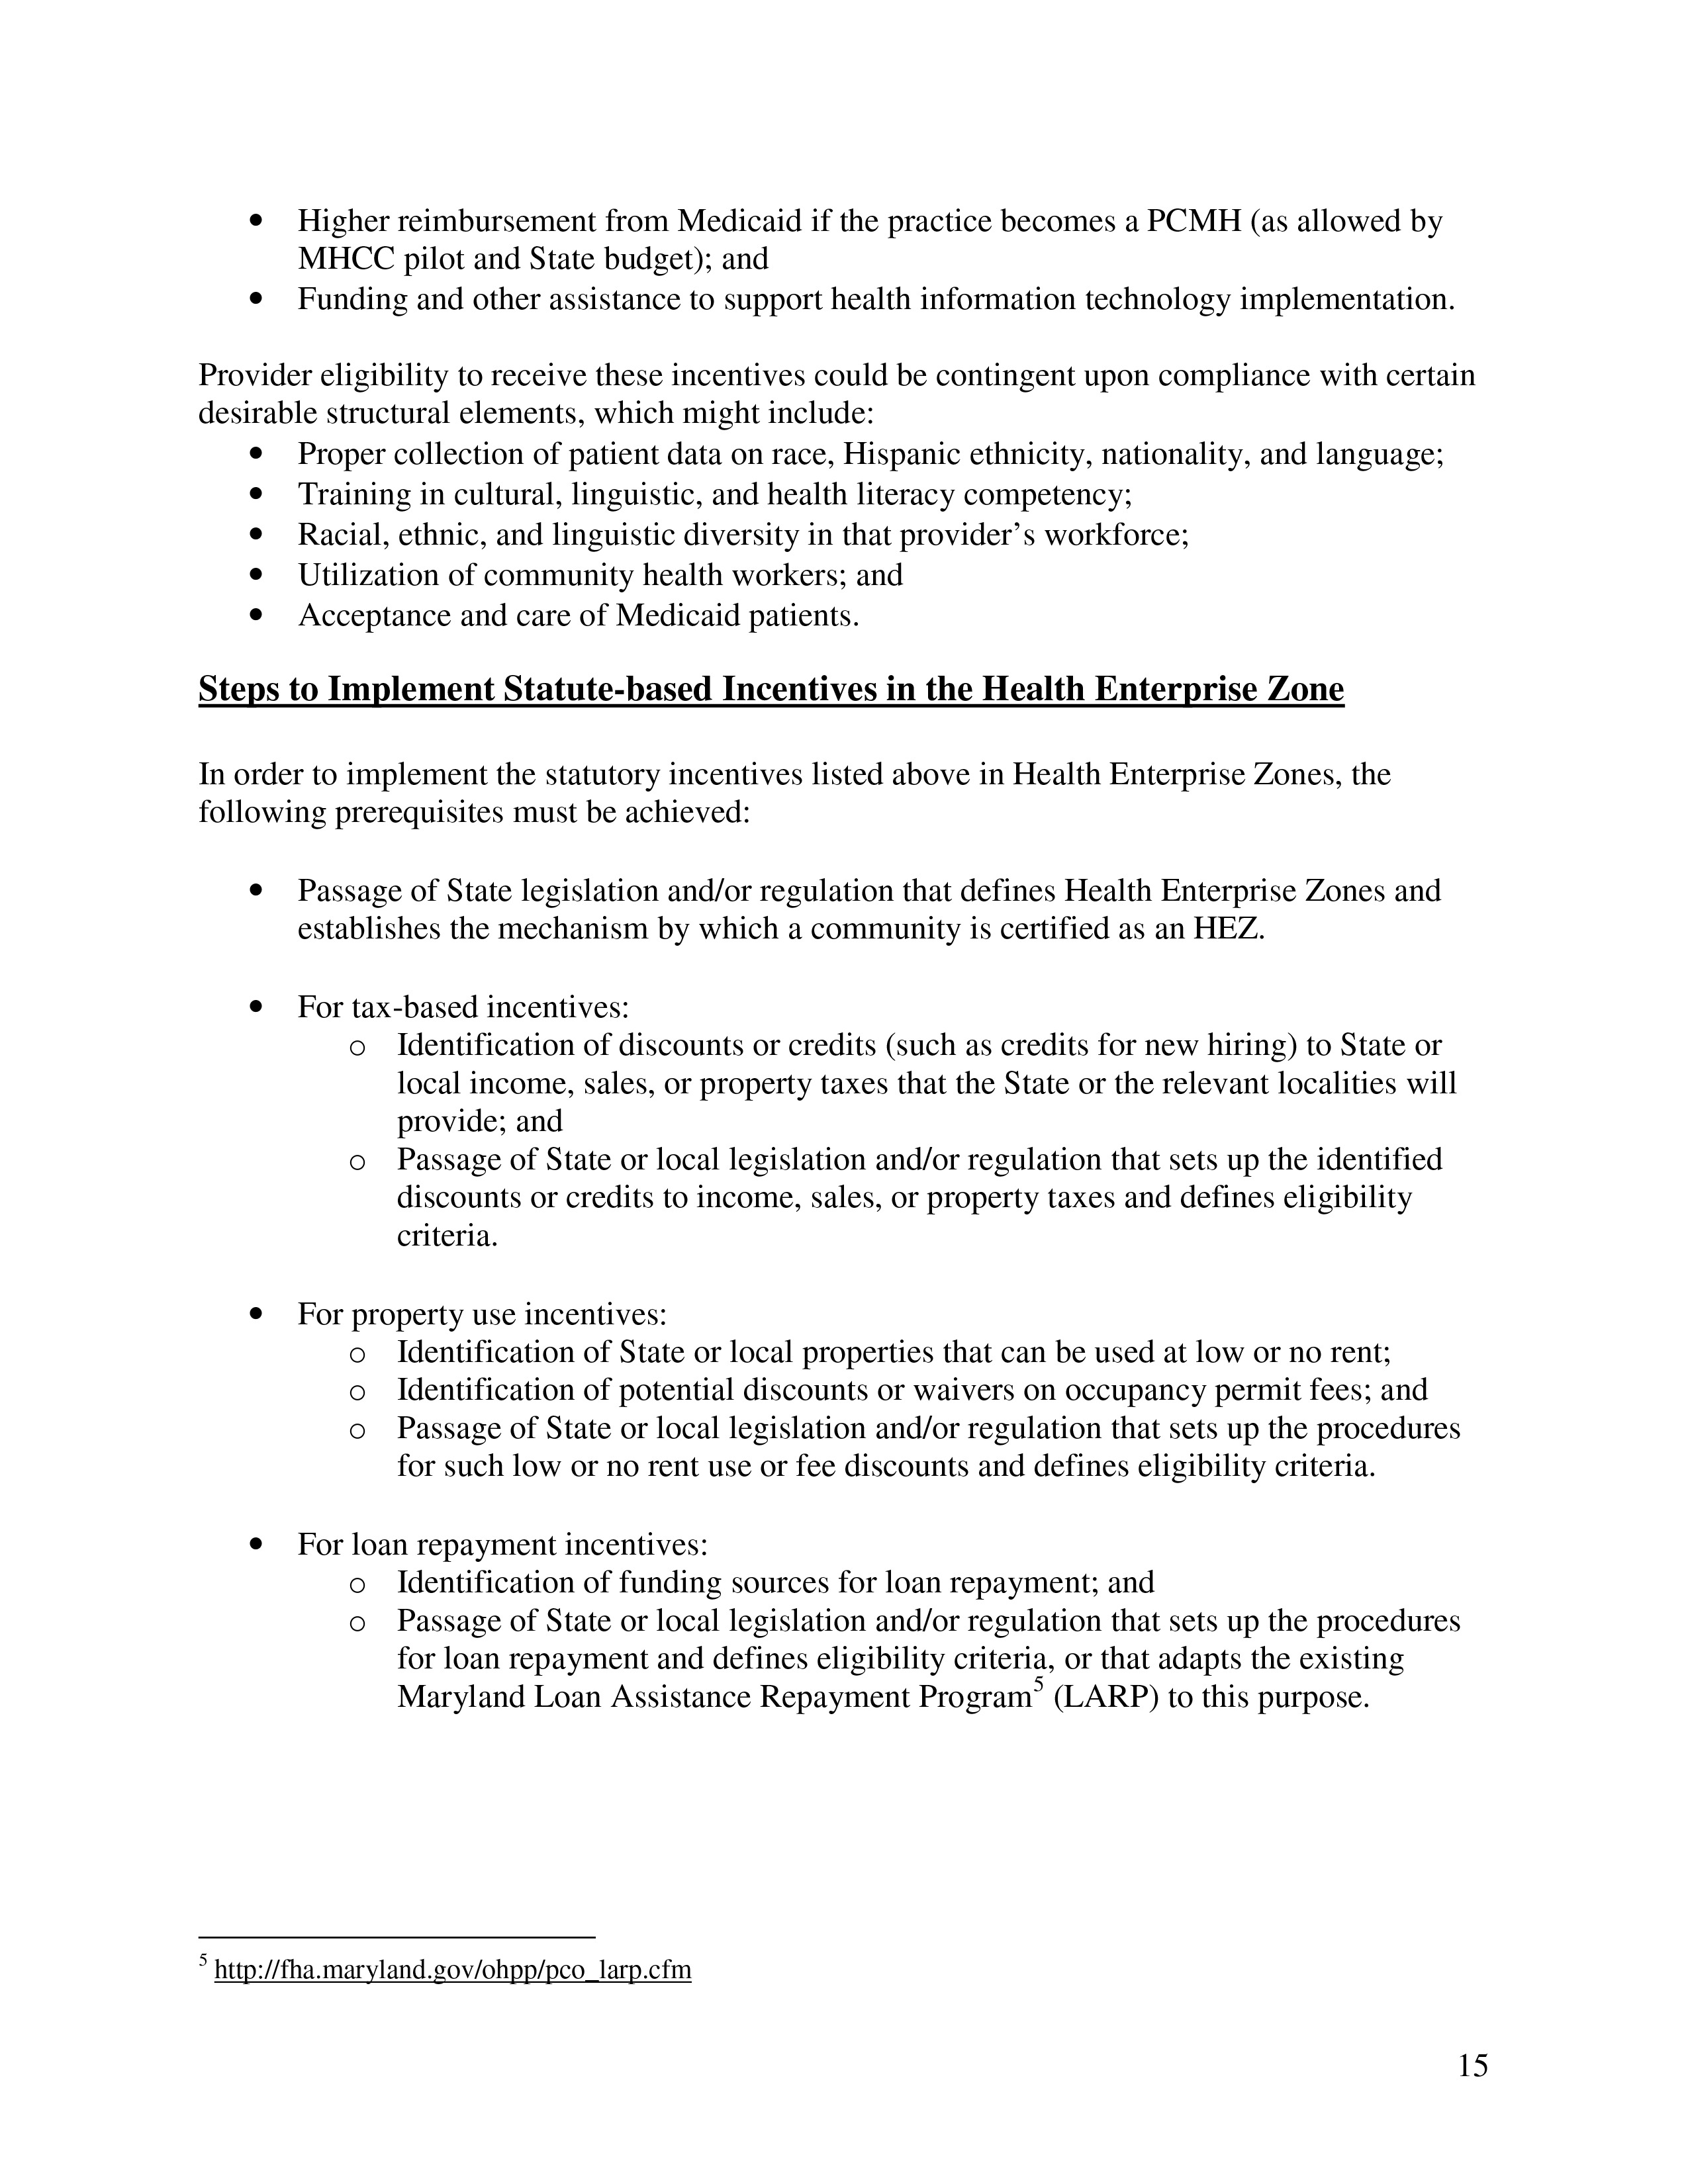list: (239, 865, 1505, 1798), (232, 443, 1465, 643), (223, 174, 1468, 319)
section: (181, 656, 1379, 732)
text: (174, 346, 1502, 447), (163, 739, 1406, 842)
